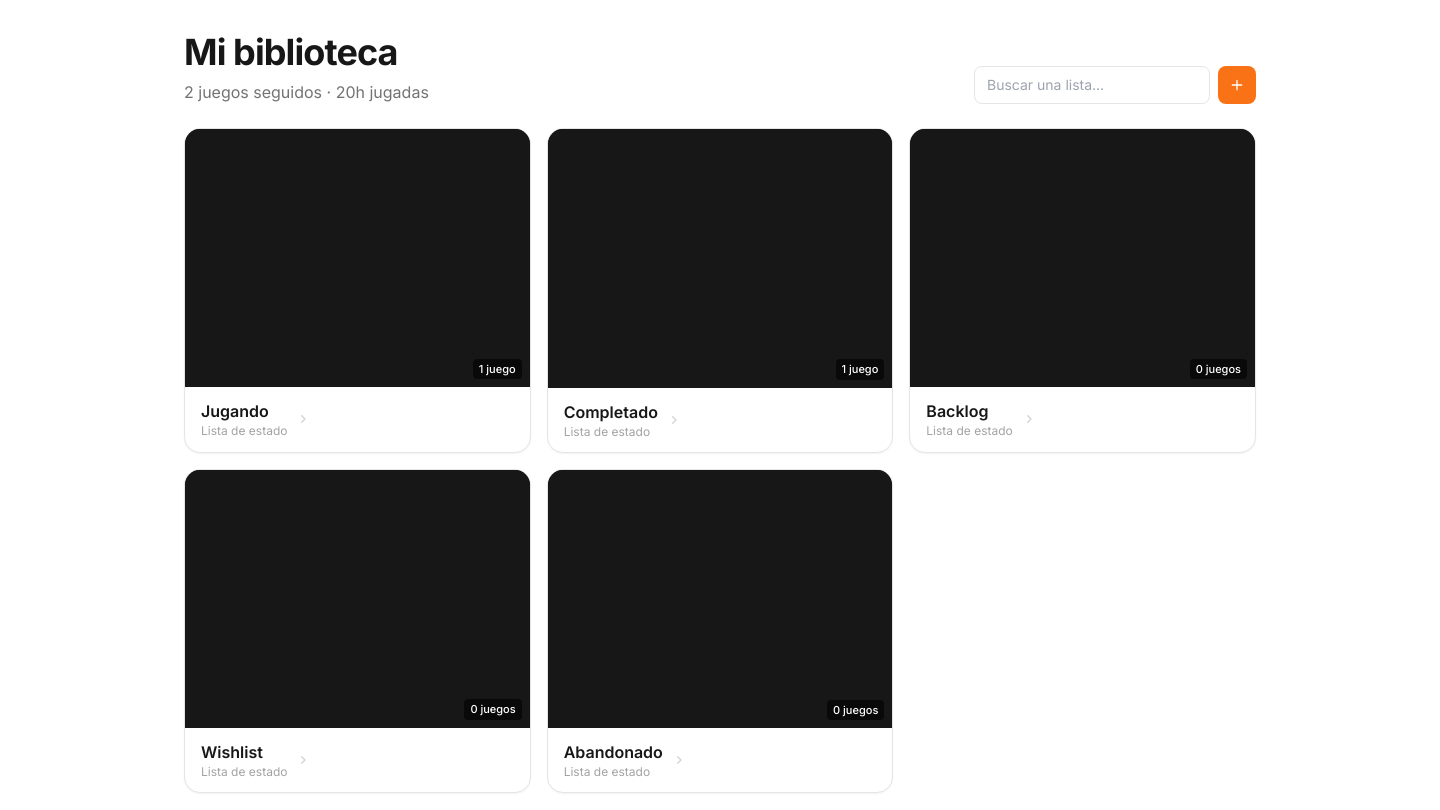
LibraryPage › al entrar en un estado se ven solo sus juegos
This screenshot has width=1440, height=810.
Click the button "1 juego Jugando Lista de estado" at point(357, 290), box [184, 128, 531, 452]
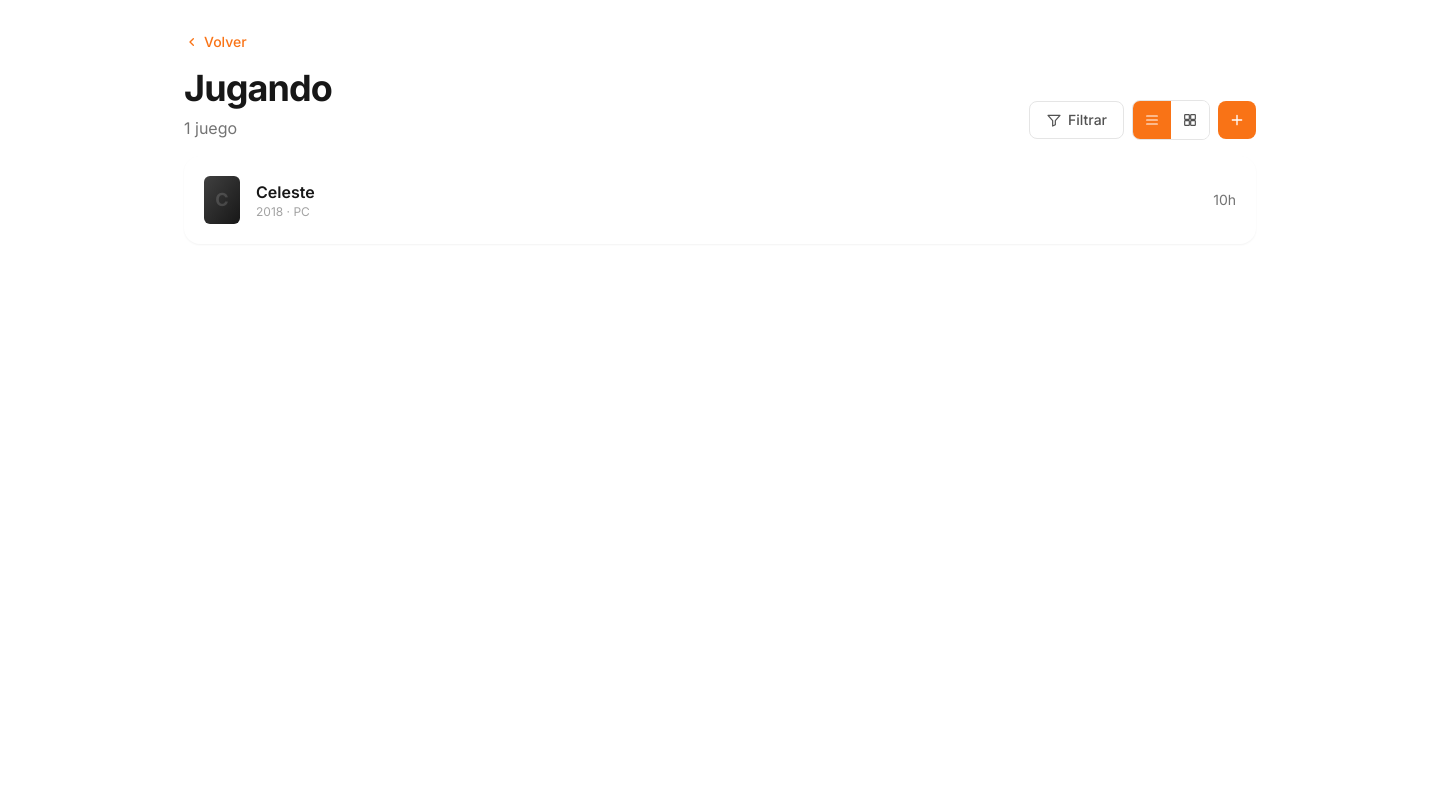
Check: the text "Celeste" is shown, box [256, 180, 315, 204]
